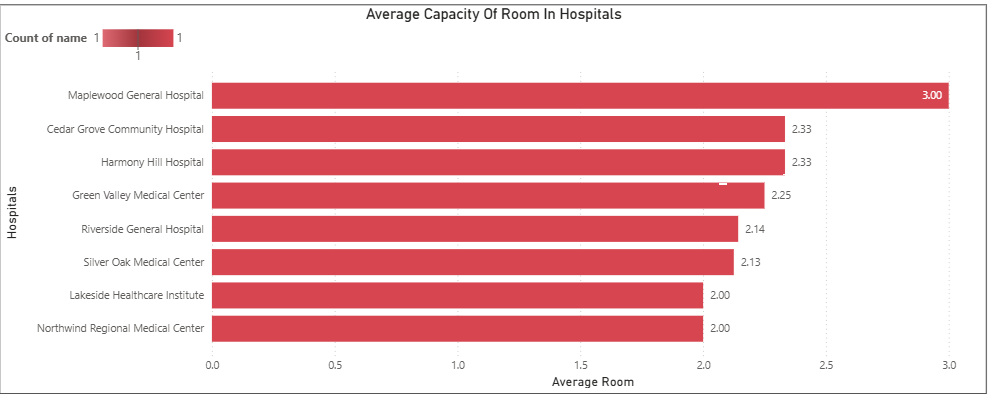

Layout of this report page (visuals, bound fields, positions):
{"tool":"powerbi","page":{"name":"Rooms","canvas":[1280,720],"ordinal":2},"visuals":[{"type":"clusteredBarChart","title":"Average Capacity Of Room In Hospitals","fields":{"Category":["hospitals.name"],"Y":["Avg(rooms.capacity)"]},"box":[123.9,89.4,1115.5,439.8],"z":0}]}

Visuals, with their boxes on the page's 1280x720 design canvas (x1, y1, x2, y2). These are canvas units, not pixel positions in the 988x398 screenshot, which may show the page scaled, cropped or inside an application window:
"Average Capacity Of Room In Hospitals" clusteredBarChart: <region>124, 89, 1239, 529</region>
